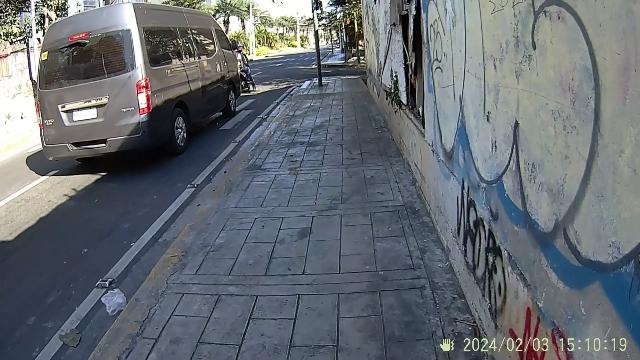car: (17, 0, 264, 180)
